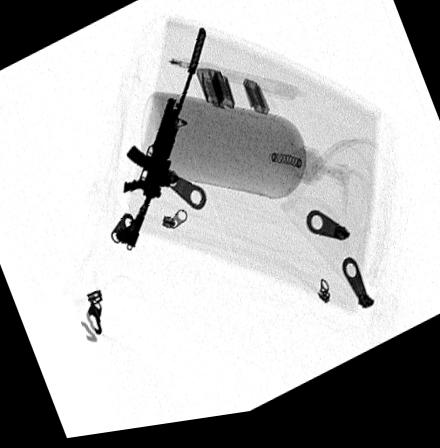Gun: (115, 33, 206, 252)
